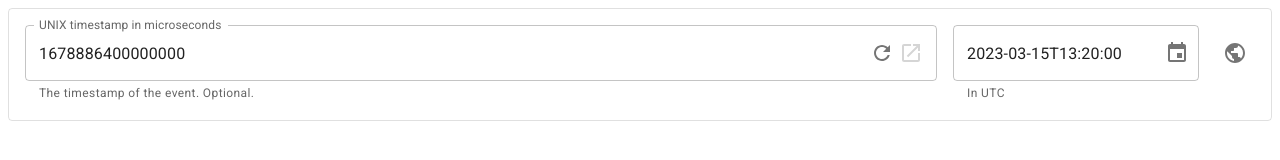
TimestampPicker › clears validation error for empty timestamp
The width and height of the screenshot is (1280, 160).
Replace the text in the field labelled "UNIX timestamp in microseconds" with "invalid" at (445, 53), box [25,25,865,81]
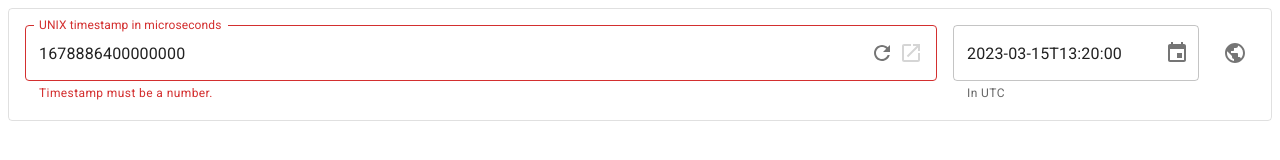
Clear the field labelled "UNIX timestamp in microseconds" at (445, 53), box [25,25,865,81]
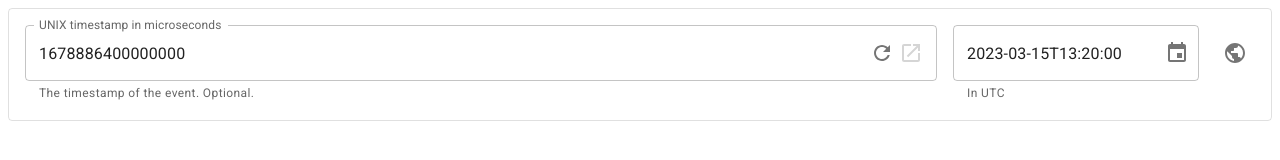
Result: the text "The timestamp of the event. Optional." is shown at [39,86,254,100]
